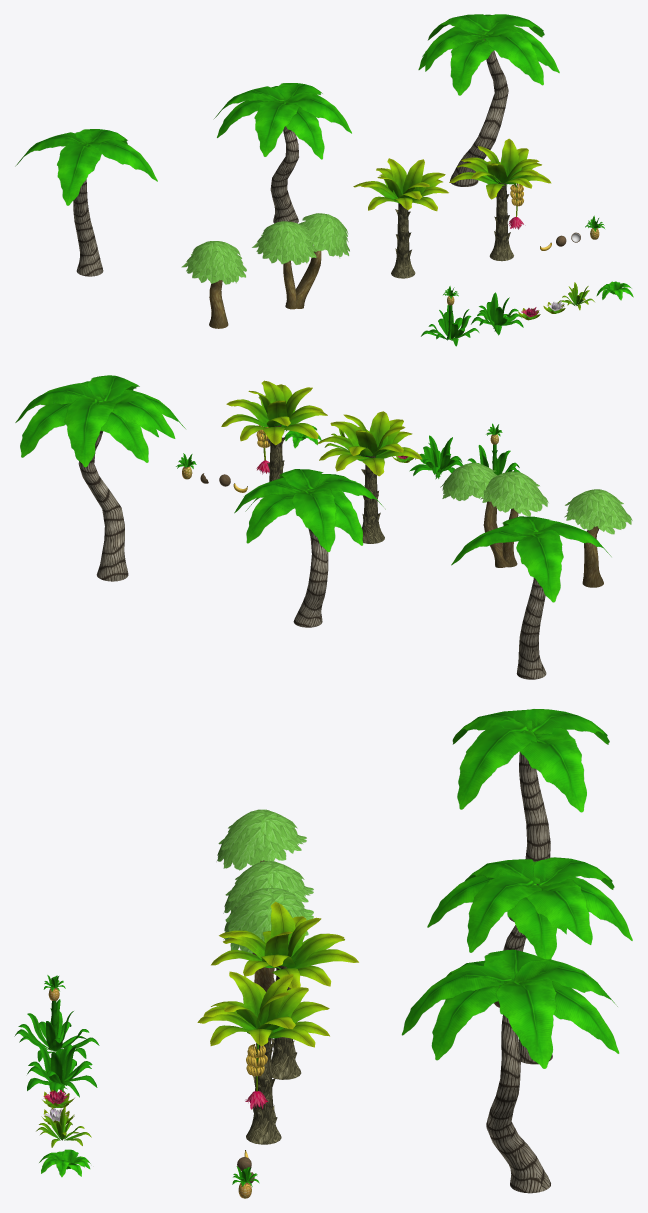
The model's file is tropicalPack.glb.
3 views of the same model, one above another, from view 1: azimuth 30°, elevation 25°; view 2: azimuth 150°, elevation 25°; view 3: azimuth 270°, elevation 25° (orthographic). The views are drawn at different scales.
Parts seen in each view (by area): view 1: Palm03, Palm02, Palm01, JungleTree01, BananaTree02, BananaTree01, JungleTree02, PineapplePlant, TropicalPlant01; view 2: Palm03, Palm02, Palm01, BananaTree01, JungleTree01, BananaTree02, JungleTree02, TropicalPlant01, PineapplePlant; view 3: Palm03, Palm02, Palm01, BananaTree02, BananaTree01, JungleTree01, JungleTree02, PineapplePlant, TropicalPlant01, TropicalPlant03, TropicalPlant02.
Boxes of the visible parts, left/top/right/bottom form: Palm03: left=418, top=14, right=559, bottom=186; Palm02: left=213, top=83, right=351, bottom=223; Palm01: left=15, top=129, right=157, bottom=276; JungleTree01: left=252, top=213, right=349, bottom=309; BananaTree02: left=449, top=138, right=551, bottom=261; BananaTree01: left=353, top=158, right=448, bottom=278; JungleTree02: left=181, top=241, right=246, bottom=328; PineapplePlant: left=421, top=286, right=479, bottom=346; TropicalPlant01: left=471, top=292, right=523, bottom=335; Palm03: left=15, top=375, right=185, bottom=581; Palm02: left=234, top=469, right=385, bottom=627; Palm01: left=451, top=516, right=611, bottom=679; BananaTree01: left=317, top=411, right=422, bottom=543; JungleTree01: left=440, top=462, right=548, bottom=567; BananaTree02: left=221, top=380, right=327, bottom=481; JungleTree02: left=564, top=489, right=632, bottom=587; TropicalPlant01: left=409, top=435, right=462, bottom=479; PineapplePlant: left=467, top=423, right=520, bottom=475; Palm03: left=401, top=949, right=619, bottom=1193; Palm02: left=427, top=857, right=632, bottom=1064; Palm01: left=452, top=709, right=609, bottom=921; BananaTree02: left=197, top=971, right=329, bottom=1144; BananaTree01: left=211, top=901, right=358, bottom=1079; JungleTree01: left=223, top=861, right=313, bottom=992; JungleTree02: left=217, top=809, right=306, bottom=870; PineapplePlant: left=14, top=975, right=99, bottom=1061; TropicalPlant01: left=27, top=1043, right=97, bottom=1097; TropicalPlant03: left=39, top=1149, right=90, bottom=1177; TropicalPlant02: left=36, top=1106, right=91, bottom=1147.
Size of what is drawn, in the model's own units: 24.36 by 7.19 by 17.76.
3 materials, 3 textured.
